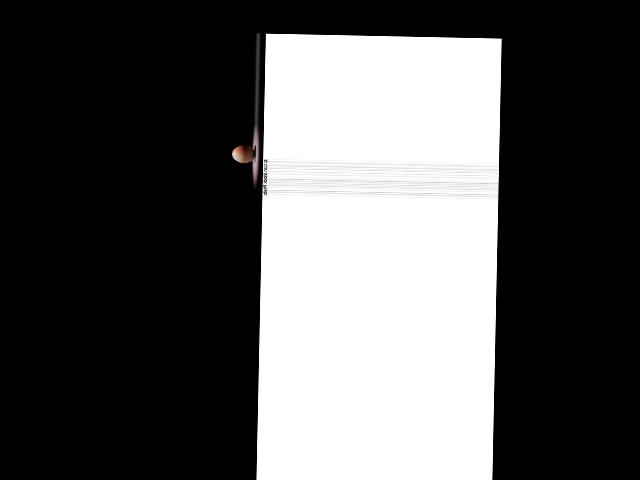egg: (232, 144, 255, 163)
